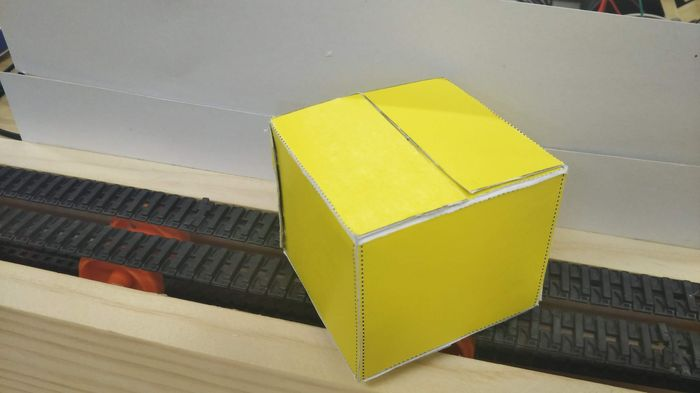box4: (265, 73, 567, 386)
